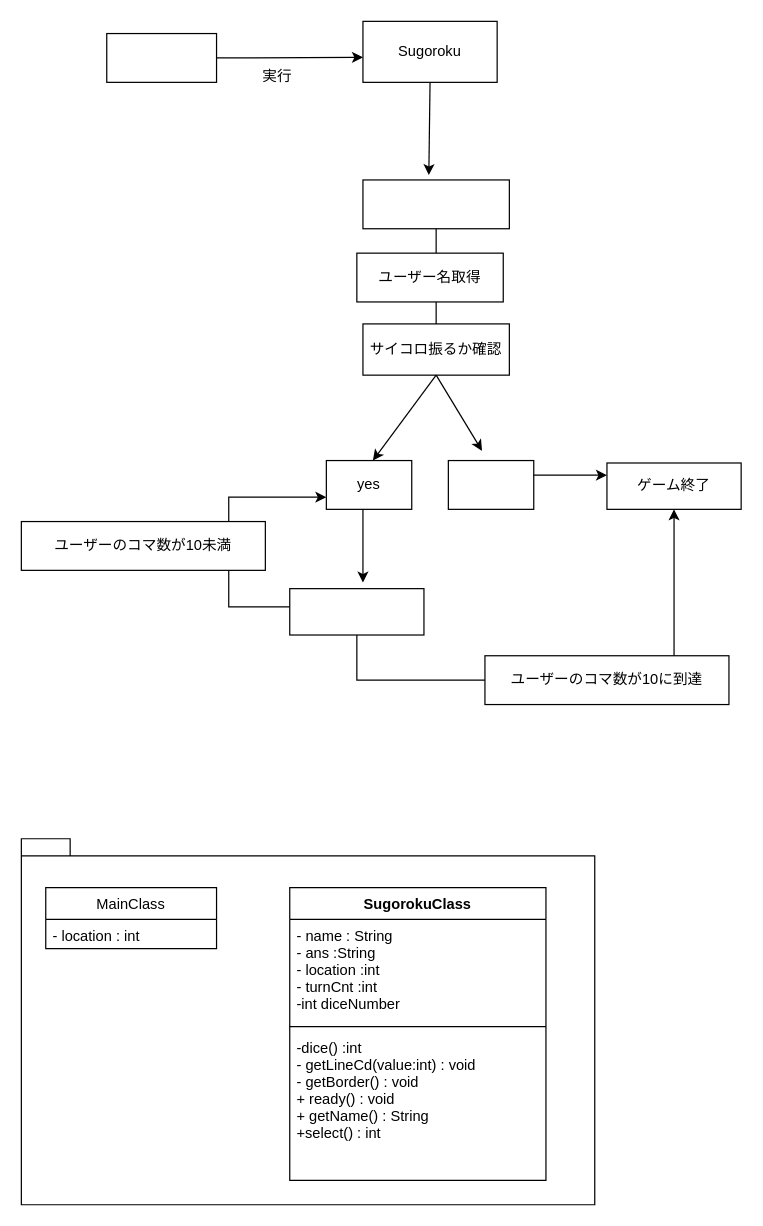
The diagram is 763 pixels wide and 1226 high, and some of its shapes have lost their labels. The shapes that lost their labels are listed below. From the top down, each one's centre as x and y in pixels, then its label:
the point at 161,57: Main
the point at 435,204: 開始確認
the point at 490,484: no
the point at 356,611: サイコロ振る
